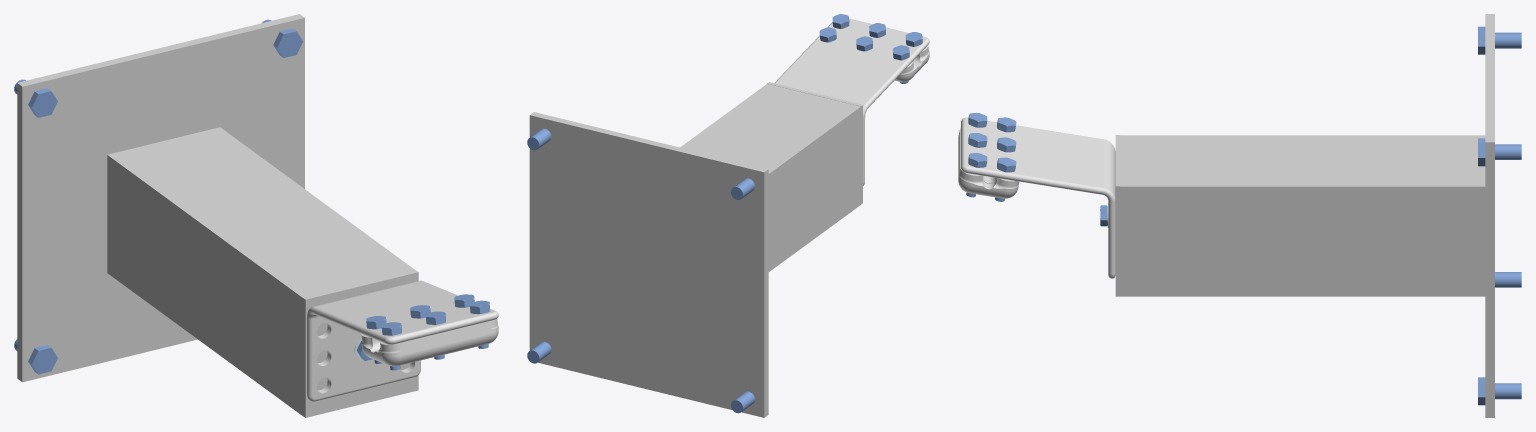
Rendered from P_Inox_Rigide.glb.
The picture shows the model from 3 angles, left to right: view 1: azimuth 30°, elevation 25°; view 2: azimuth 150°, elevation 25°; view 3: azimuth 270°, elevation 25°; orthographic projection. The views are drawn at different scales.
Parts seen in each view (by area): view 1: tube, Platine_NewPro, couvert_tube, Matrice_NewPro, boulon (×3); view 2: tube, Platine_NewPro, Matrice_NewPro, couvert_tube; view 3: tube, Platine_NewPro, boulon (×3), Matrice_NewPro, couvert_tube.
Part boxes in pixels (x1,y1,x2,y2): tube: (17,14,415,415); Platine_NewPro: (307,280,498,401); couvert_tube: (303,270,418,417); Matrice_NewPro: (361,318,498,366); boulon (×3): (14,19,302,374); tube: (529,84,860,417); Platine_NewPro: (774,18,929,185); Matrice_NewPro: (894,45,929,82); couvert_tube: (767,82,862,204); tube: (1120,14,1494,417); Platine_NewPro: (961,117,1115,278); boulon (×3): (1478,26,1521,405); Matrice_NewPro: (958,126,1019,198); couvert_tube: (1115,135,1120,296).
Size of the model in its own units: 0.25 by 0.25 by 0.4634.
